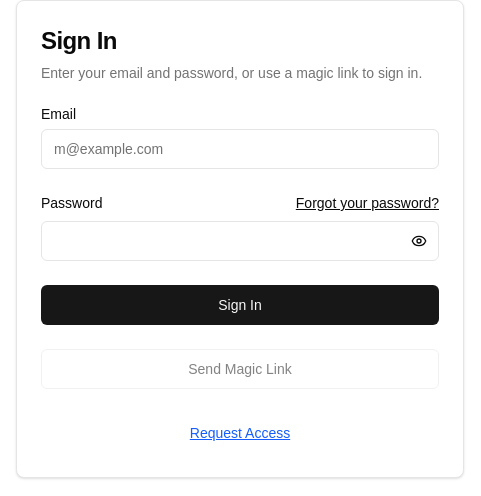
it: SignInForm Integration › disables password toggle when form is loading
# Fill form
Type "test@example.com" into the field labelled "Email" at (240, 149), box [41,129,439,169]
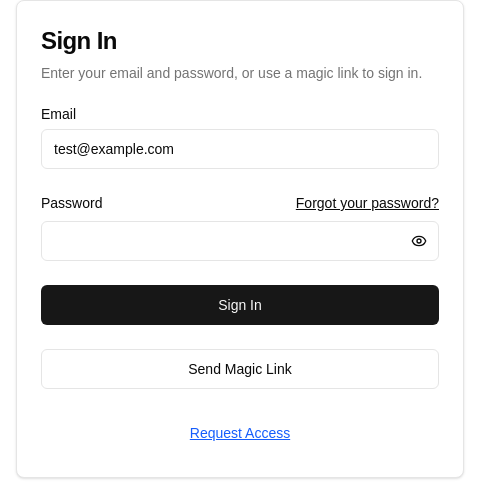
Type "password123" into the password field labelled "Password" at (240, 241), box [41,221,439,261]
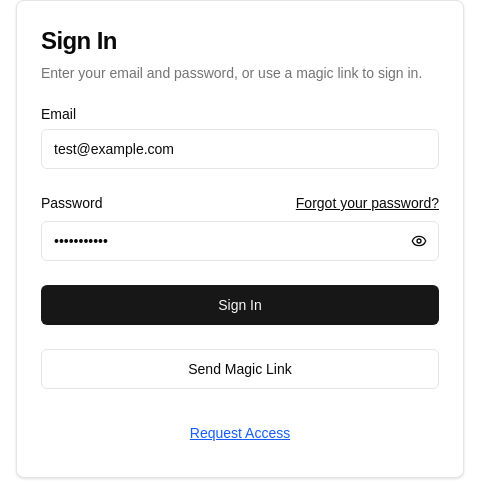
# Submit form
Click the button "Sign In" at (240, 305), box [41,285,439,325]
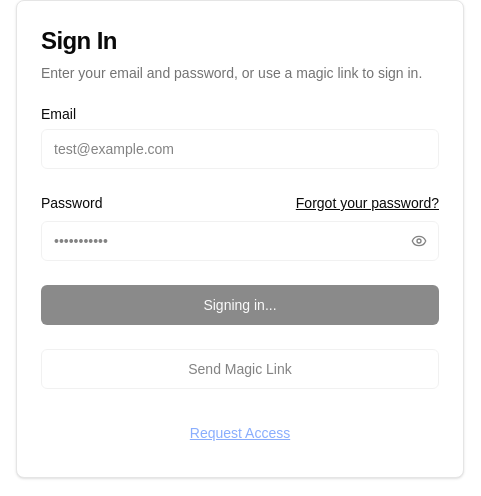
expect the button named "show password" is disabled: met, box [399,221,439,261]
